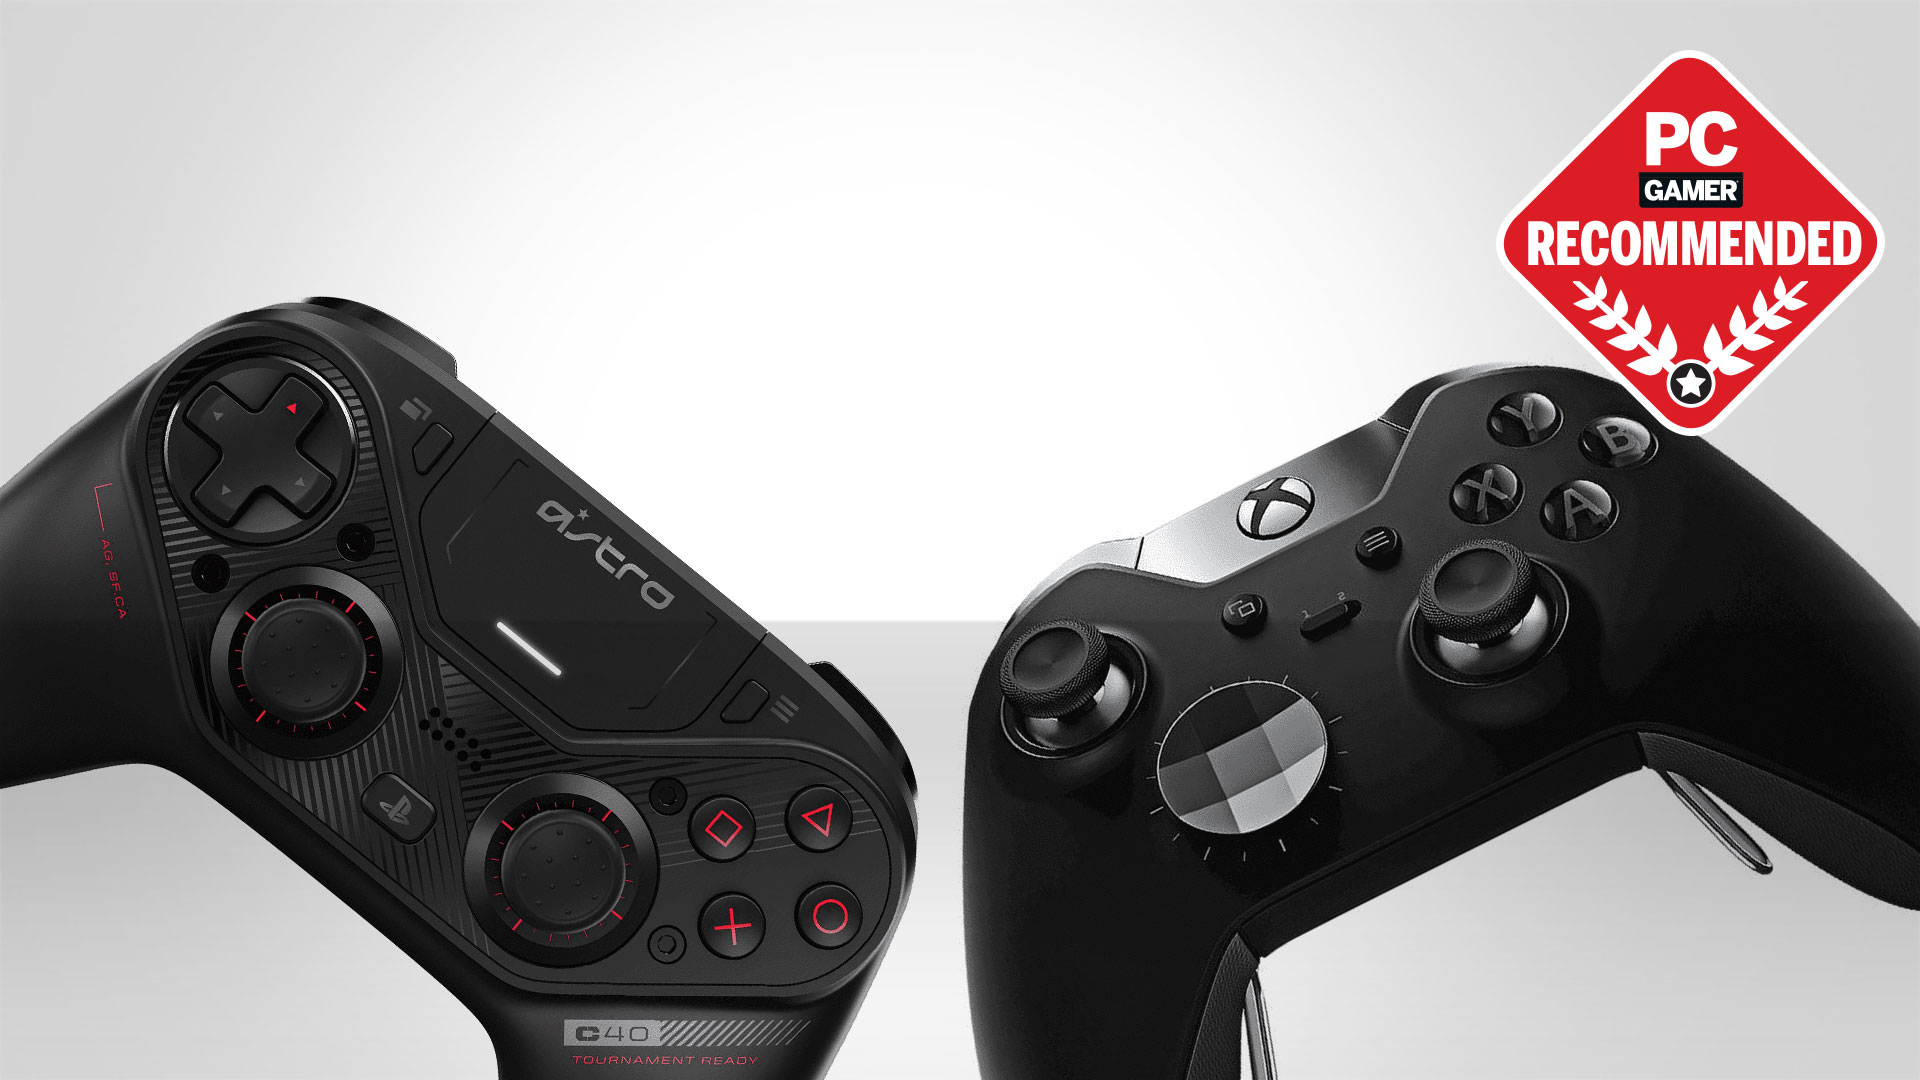controller: (3, 297, 918, 1080), (959, 363, 1920, 1080)
